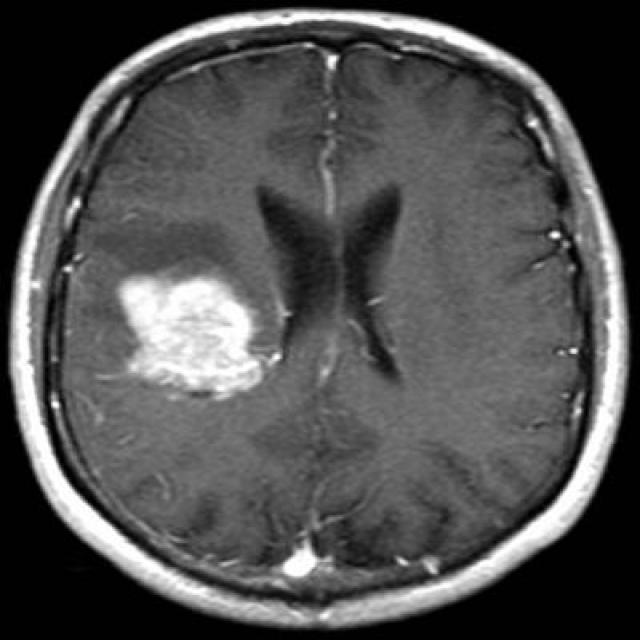Tumor-Cell: (120, 271, 269, 394)
